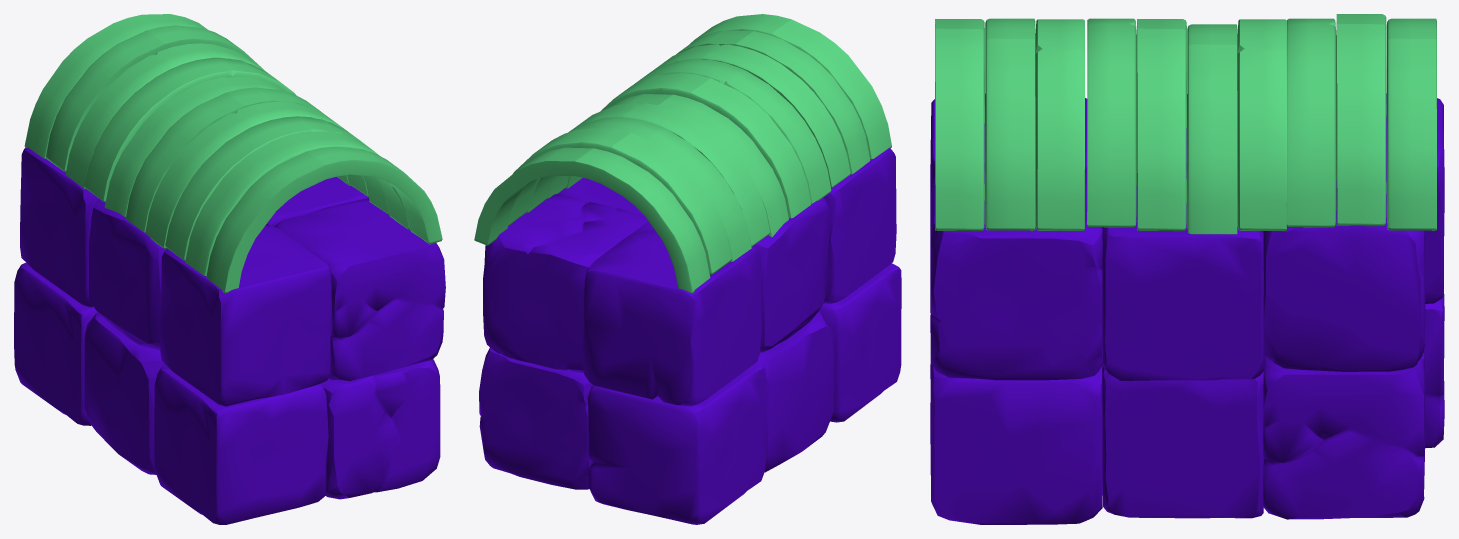
Rendered from wall06.fbx.
3 views of the same model, side by side, from view 1: azimuth 30°, elevation 25°; view 2: azimuth 150°, elevation 25°; view 3: azimuth 270°, elevation 25° (orthographic). The views are drawn at different scales.
Parts seen in each view (by area): view 1: wall06; view 2: wall06; view 3: wall06.
Boxes of the visible parts, x1,y1,x2,y2 form: wall06: (14, 14, 445, 524); wall06: (474, 14, 901, 524); wall06: (930, 14, 1444, 524).
Bounding box in the file's own units: 2.54 × 3.62 × 3.9.
